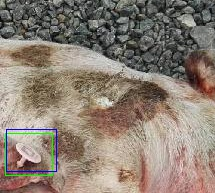text: (5, 133, 52, 175)
